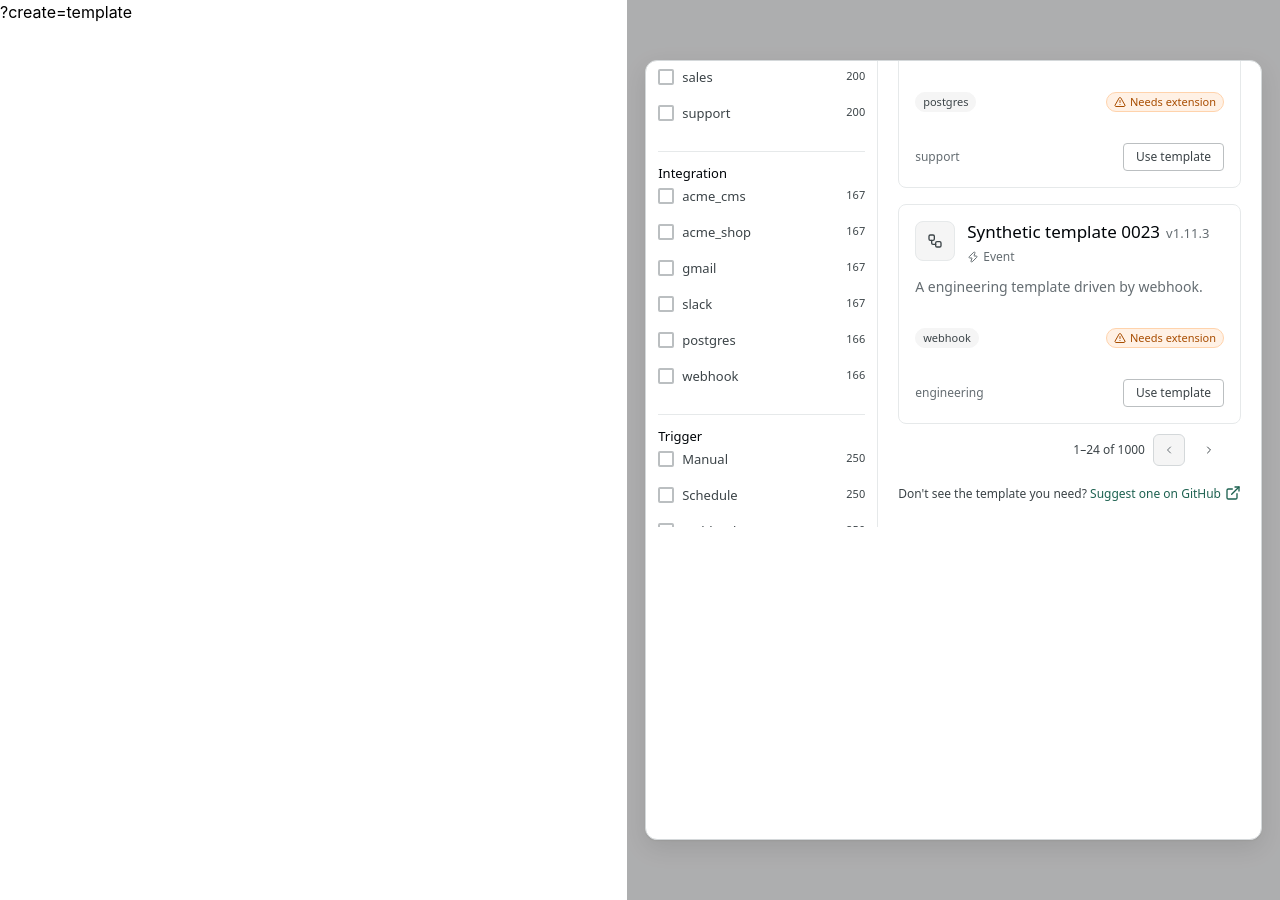
Test: 1,000 templates page at 24, without another request
The image size is (1280, 900).
(page scrolled)
expect the text "1–24 of 1000" is shown: met, box [1073, 440, 1145, 460]
expect the button named "Previous page" is disabled: met, box [1153, 434, 1185, 466]
Click the button named "Next page": click(1209, 450) [1193, 434, 1225, 466]
(page scrolled)
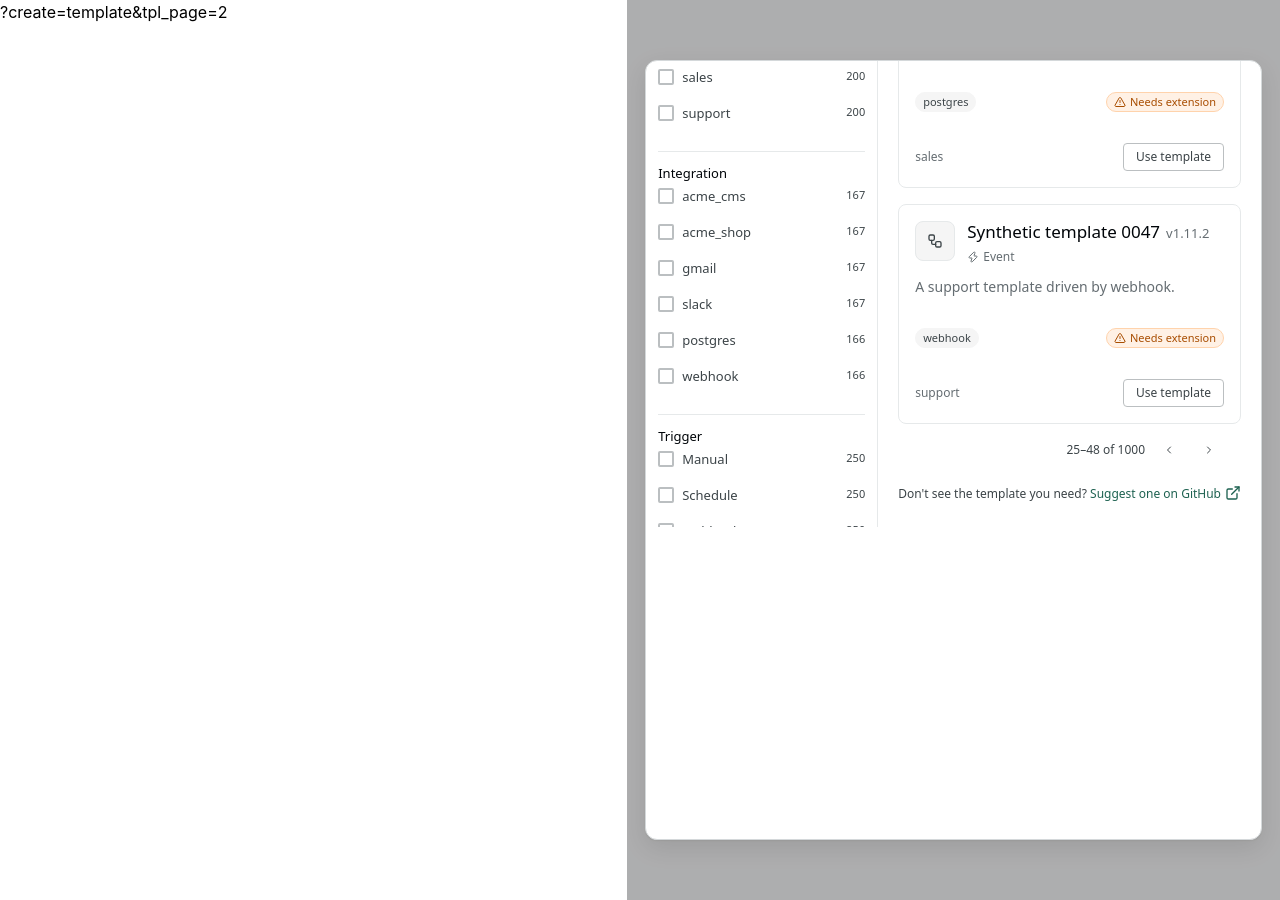
expect the text with test id "location" shows "tpl_page=2": met, box [0, 2, 228, 22]
expect the text "25–48 of 1000" is shown: met, box [1066, 440, 1145, 460]
